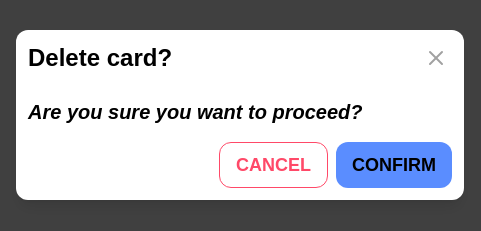
it: components/retro-board/guided-mode/use-guided-all-votes-in-prompt › waits for a confirmation already on screen instead of replacing it
Check: the text "Delete card?" is shown, box [28, 42, 172, 74]
Click the button "Cancel". click: click(274, 165)
box: [219, 142, 328, 188]
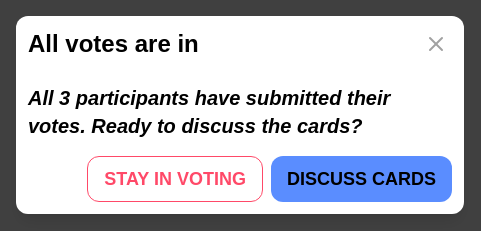
Check: the text "All 3 participants have submitted their votes. Ready to discuss the cards?" is shown, box [28, 87, 390, 137]
